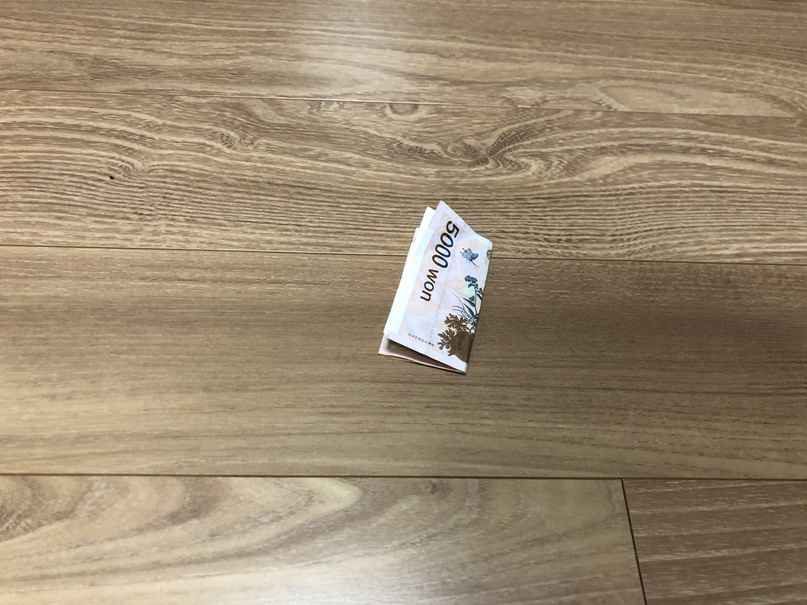5000won: (377, 201, 494, 374)
